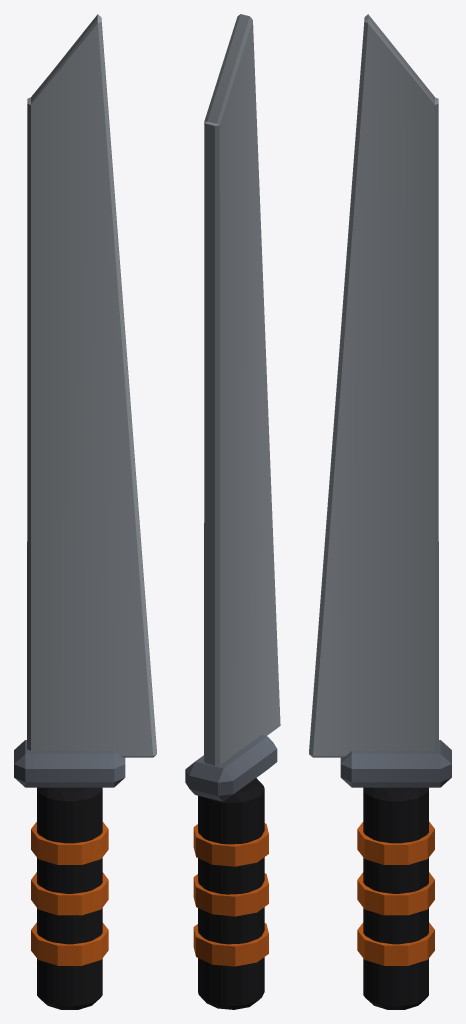
Rendered from machete.glb.
3 views of the same model, side by side, from view 1: azimuth 90°, elevation 25°; view 2: azimuth 150°, elevation 25°; view 3: azimuth 270°, elevation 25° (orthographic).
Visible parts, largest first — view 1: machete; view 2: machete; view 3: machete.
Boxes of the visible parts, bbox=[...] form: machete: bbox=[14, 14, 156, 1009]; machete: bbox=[185, 14, 280, 1009]; machete: bbox=[309, 14, 451, 1009].
Bounding box in the file's own units: 0.0399 × 0.585 × 0.077.
